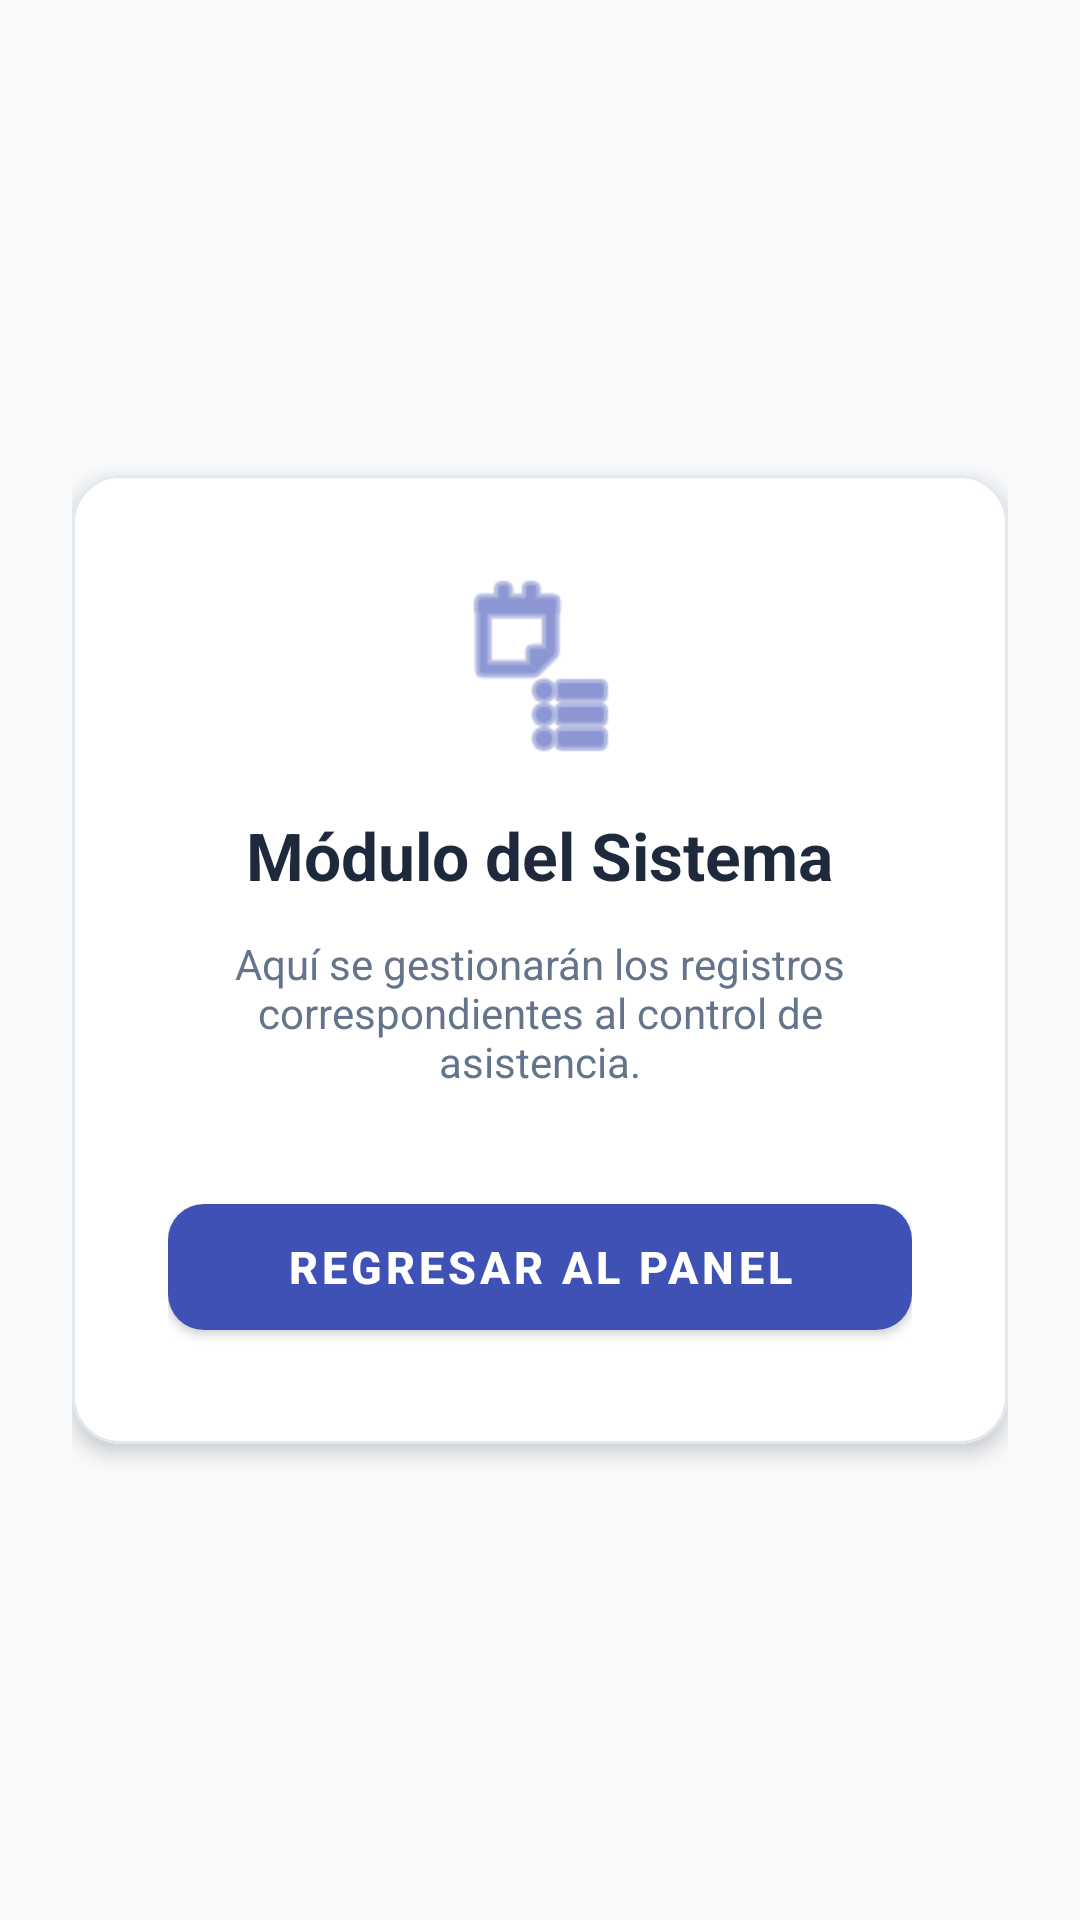

Named icons in this screenshot (1080*1920) and their bounding boxes, detection(x1, y1, x2, y2):
Icono de Módulo: detection(474, 581, 608, 751)
